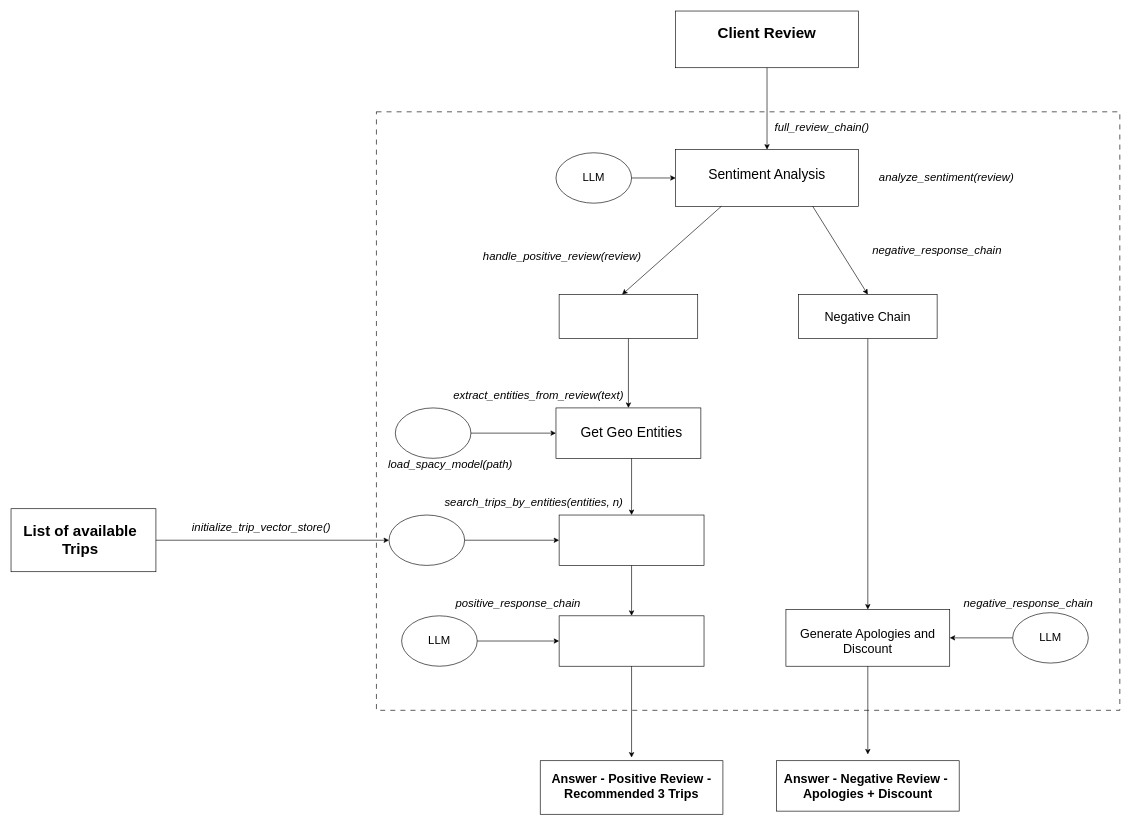
The diagram is 1131 pixels wide and 825 high, and some of its shapes have lost their labels. Each missing label, with the centre of its shape:
Chroma Vector DB: (426,539)
Generate Positive Answer (incl. 3 Trips): (631,640)
Get 3 Recomended Trips: (631,539)
NER ML Model: (433,432)
Positive Chain: (628,316)
